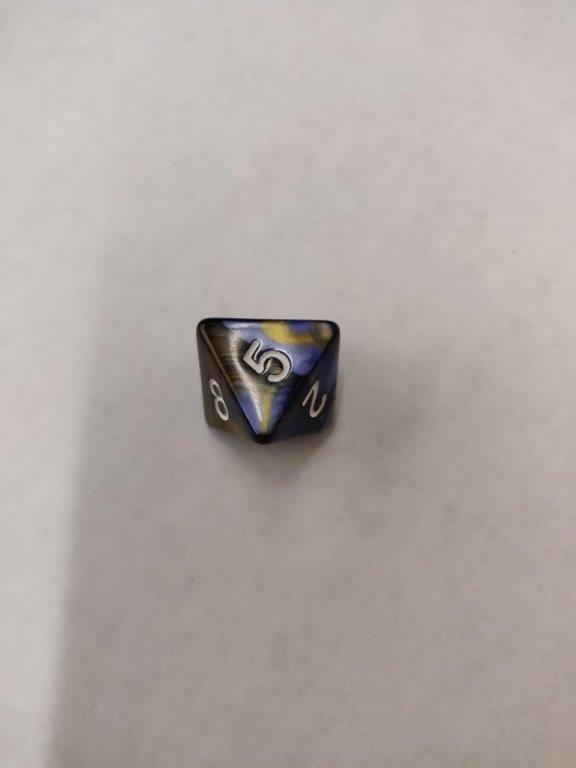d8-5: (196, 313, 342, 437)
